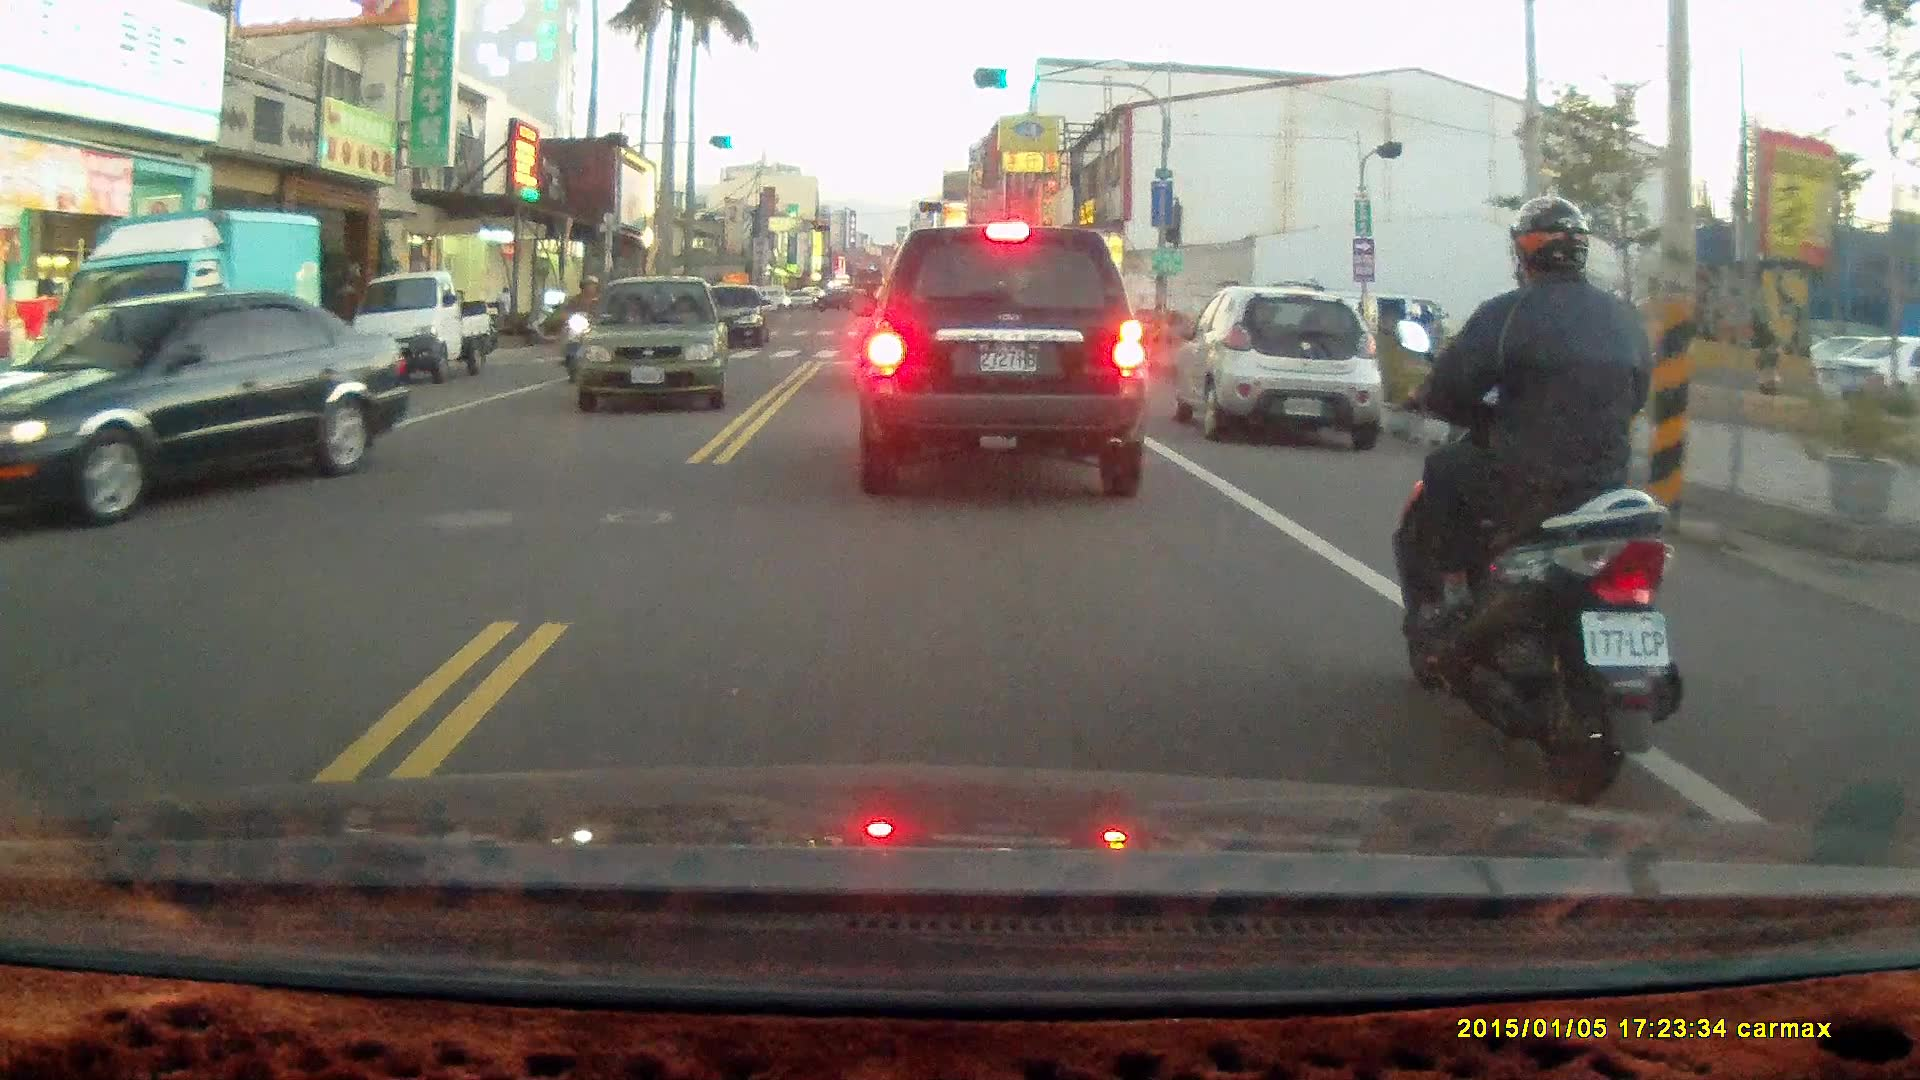rider: (1390, 196, 1687, 803), (554, 278, 604, 372)
vehicle: (1, 293, 412, 527), (855, 223, 1148, 500), (64, 211, 322, 444), (1181, 286, 1384, 448), (568, 273, 729, 416), (343, 268, 493, 383)
